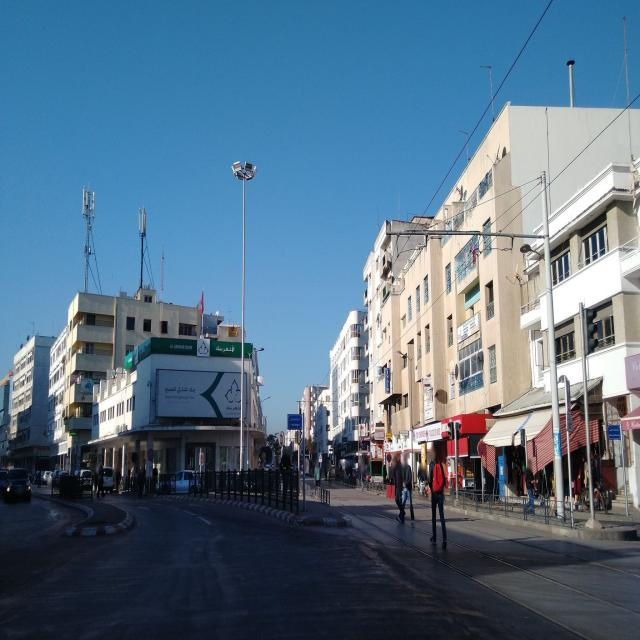forb_stopping: (147, 448, 155, 462)
forb_waiting: (478, 441, 487, 458)
